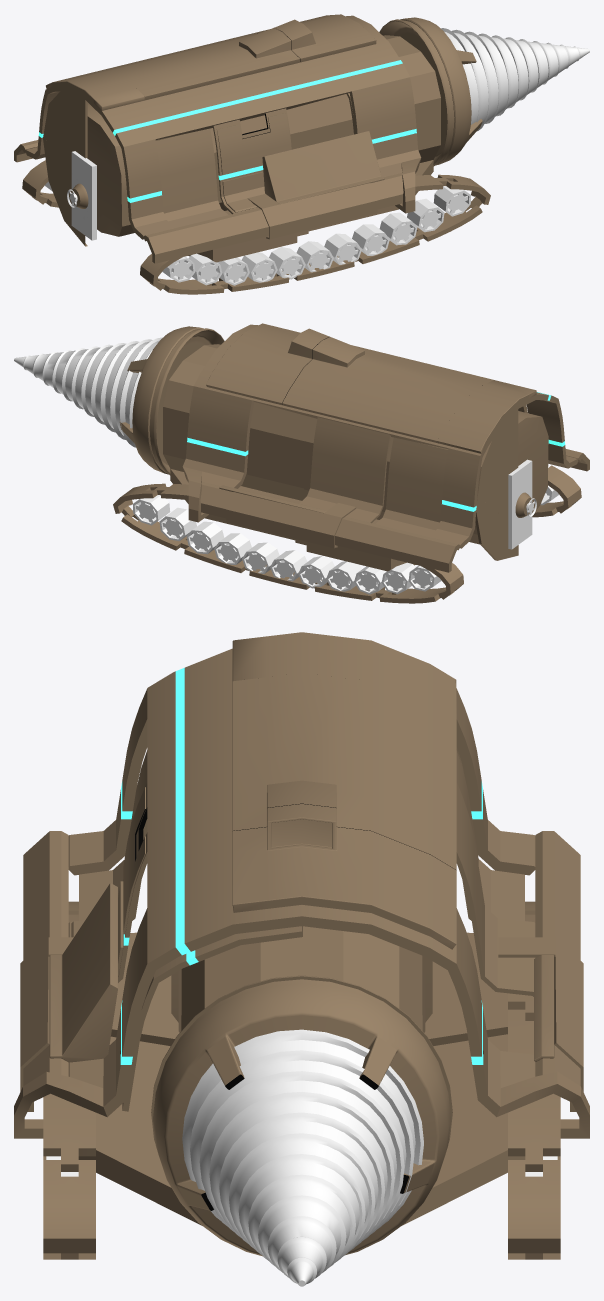
The model's file is SM_CarDrill.fbx.
3 views of the same model, one above another, from view 1: azimuth 30°, elevation 25°; view 2: azimuth 150°, elevation 25°; view 3: azimuth 270°, elevation 25° (orthographic). The views are drawn at different scales.
Visible parts, largest first — view 1: Cube.035; view 2: Cube.035; view 3: Cube.035.
Boxes of the visible parts, x1=… form: Cube.035: x1=14, y1=14, x2=589, y2=294; Cube.035: x1=14, y1=323, x2=589, y2=603; Cube.035: x1=14, y1=632, x2=589, y2=1286.
Bounding box in the file's own units: 1466 × 520 × 715.
